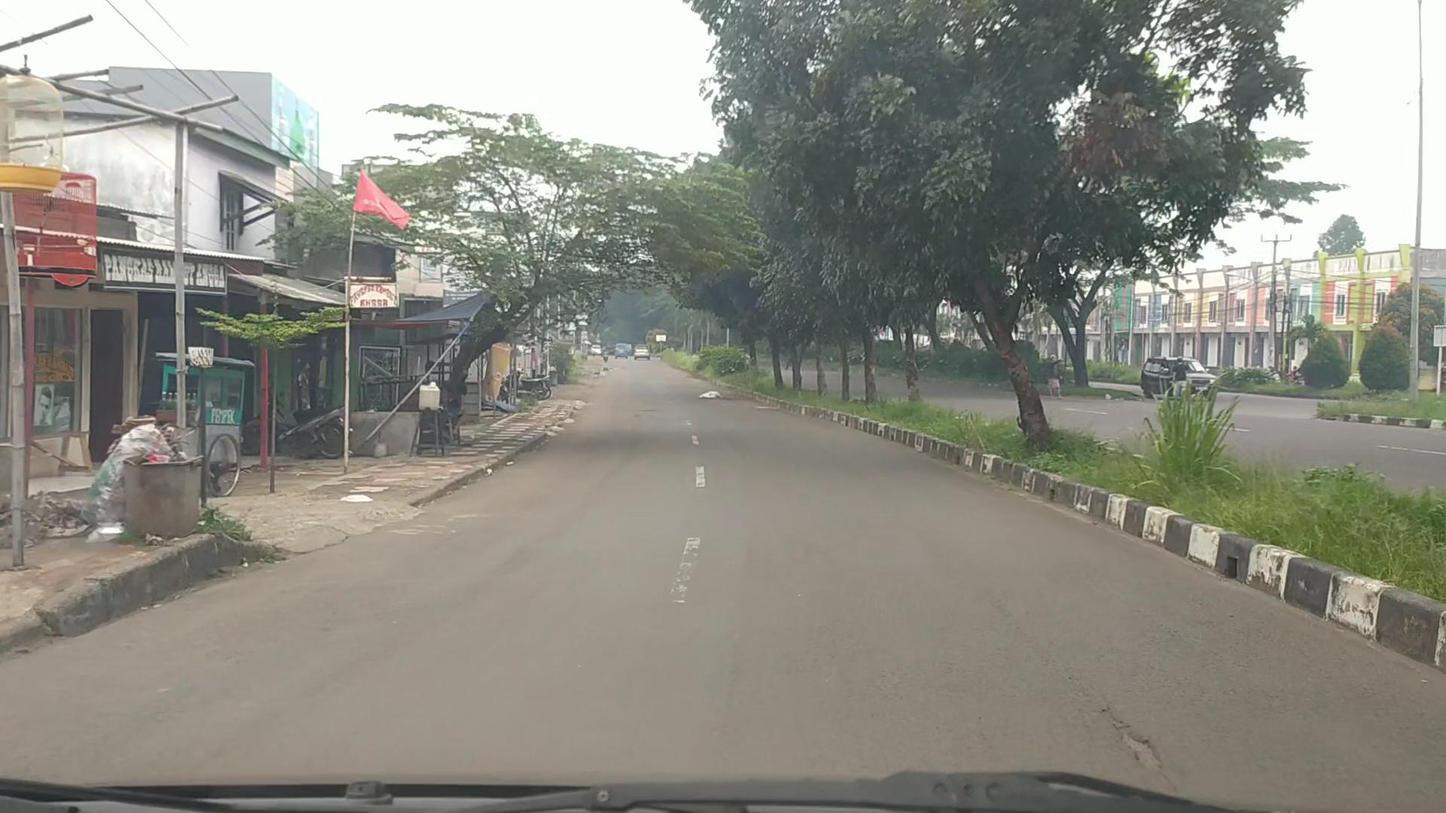pothole: (1097, 703, 1164, 775)
